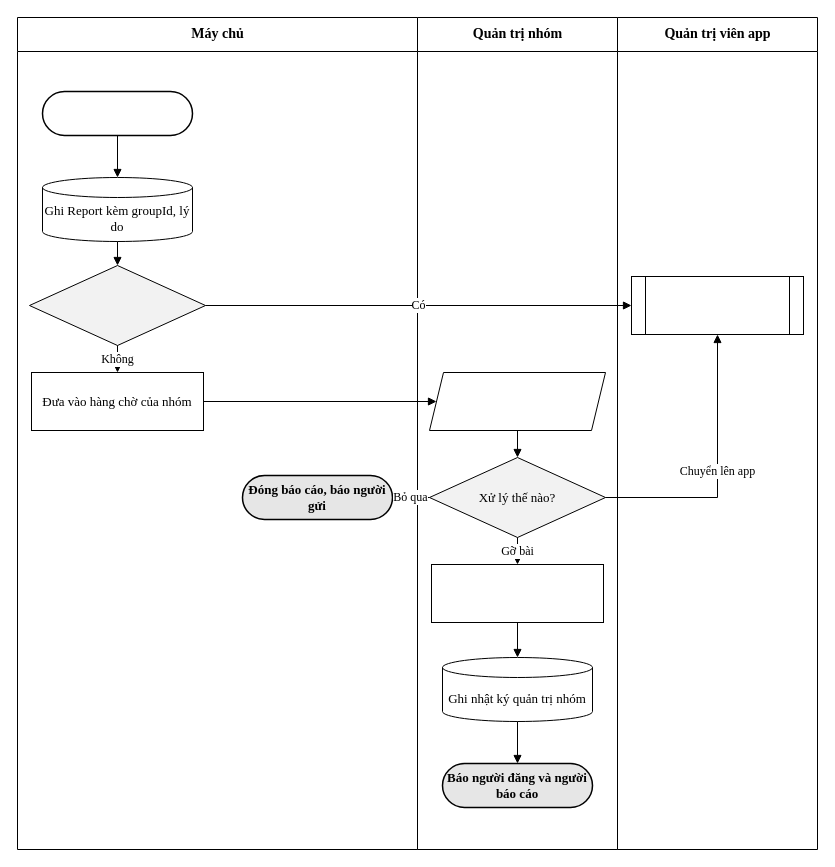
This 835x867 diagram has some shape labels left out. Here are the shapes that lost their labels. From the top down, the centre of each, then its label:
[117,113]: Thành viên báo cáo bài trong nhóm
[117,305]: Lý do thuộc luật app?
[717,305]: Hàng đợi kiểm duyệt app (C1, C2)
[517,401]: Quản trị nhóm xem báo cáo
[517,593]: Gỡ bài, cảnh cáo hoặc cấm khỏi nhóm
